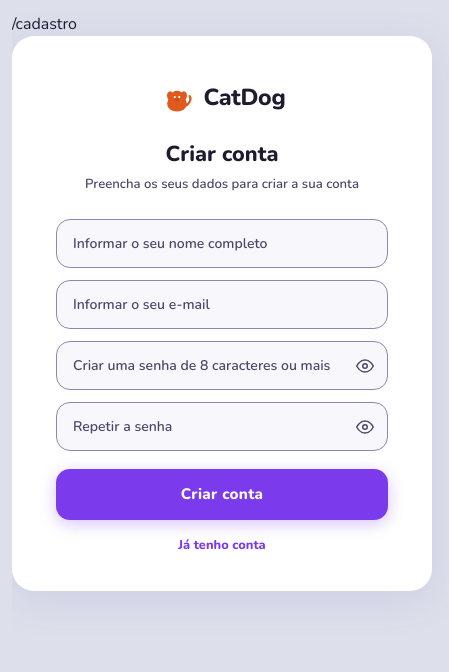
RegisterPage — falhas da API › CT-05: e-mail em uso exibe a mensagem do backend e MANTEM os campos preenchidos
Type "Caio Cliente" into the field labelled "nome completo".
click(222, 244); type("Caio Cliente")  # box [56,219,388,268]
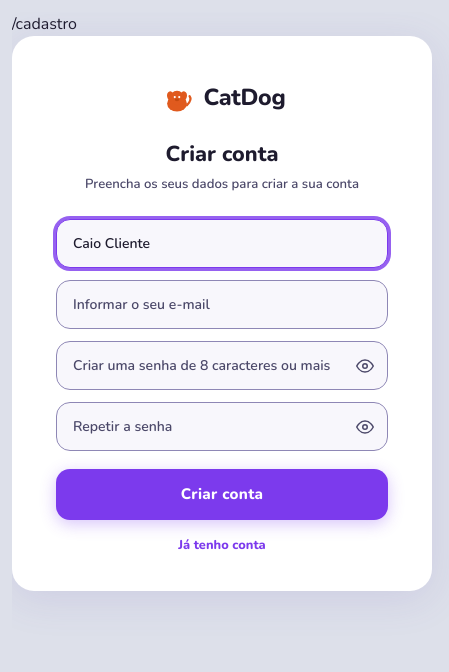
Type "pessoa@catdog.test" into the field labelled "e-mail".
click(222, 305); type("pessoa@catdog.test")  # box [56,280,388,329]
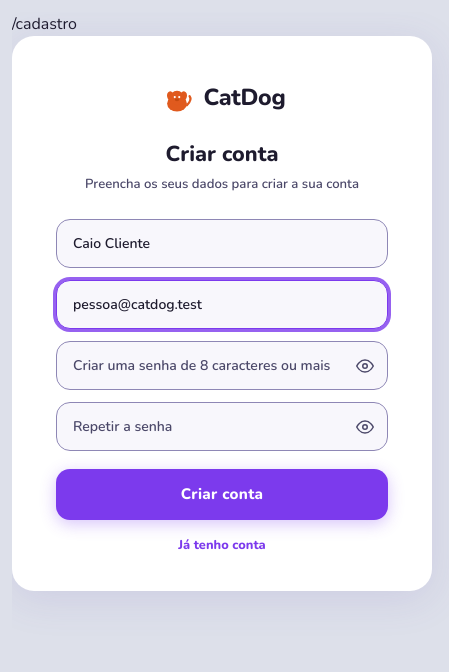
Type "Abc12345" into the password field labelled "senha".
click(222, 366); type("Abc12345")  # box [56,341,388,390]
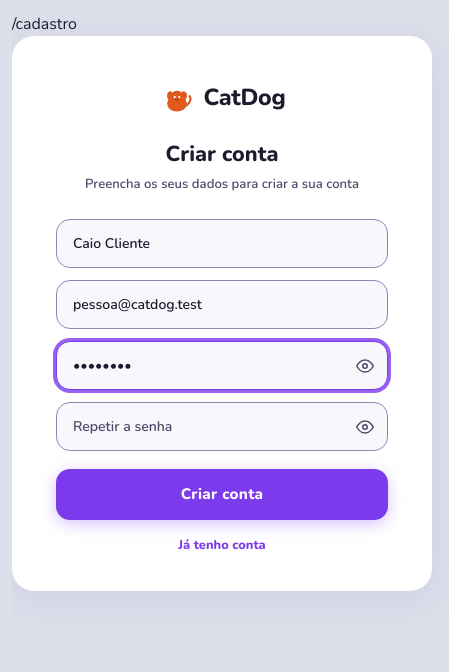
Type "Abc12345" into the password field named "Confirmação de senha".
click(222, 427); type("Abc12345")  # box [56,402,388,451]
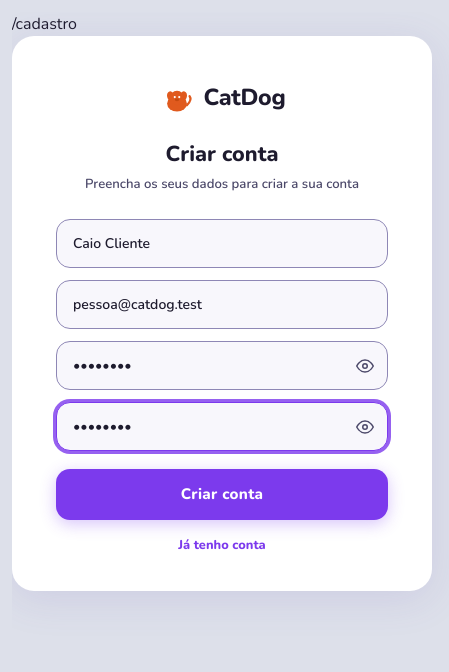
Click the button "Criar conta".
click(222, 494)  # box [56,469,388,520]
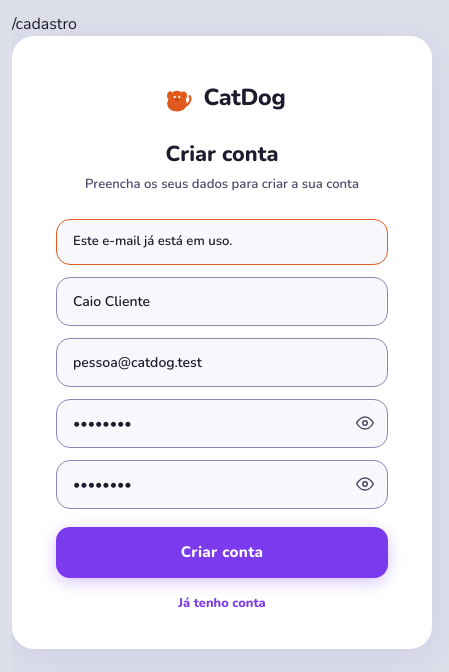
Expected: the message reads "Este e-mail já está em uso.", [73,232,232,250]
